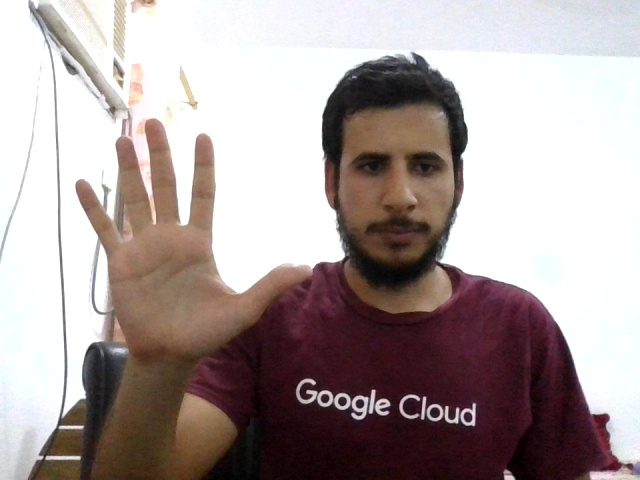Five: (75, 118, 313, 363)
